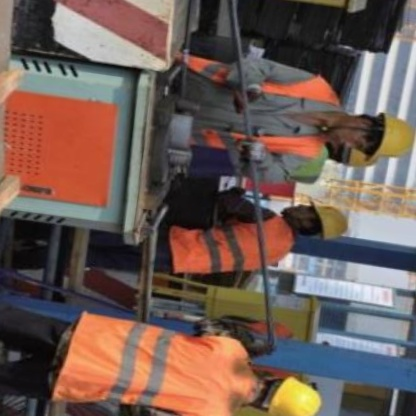vest: (44, 305, 267, 416), (172, 53, 351, 168), (164, 201, 310, 301)
yellow: (364, 107, 416, 175), (297, 194, 358, 249), (263, 370, 330, 416)
